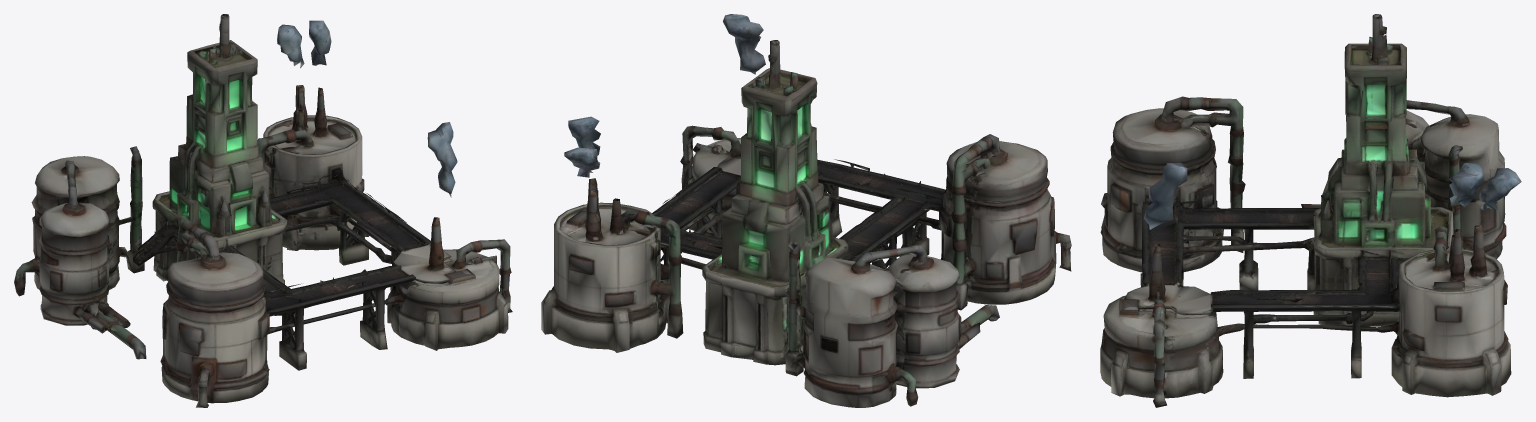
File: extractor.glb
3 renders of one model, left to right at view 1: azimuth 30°, elevation 25°; view 2: azimuth 150°, elevation 25°; view 3: azimuth 270°, elevation 25°, orthographic. The views are drawn at different scales.
Parts seen in each view (by area): view 1: Mesh1.0; view 2: Mesh1.0; view 3: Mesh1.0.
Part boxes in pixels (x1=…): Mesh1.0: x1=14, y1=14, x2=512, y2=407; Mesh1.0: x1=541, y1=14, x2=1071, y2=407; Mesh1.0: x1=1100, y1=14, x2=1521, y2=407.
Bounding box in the file's own units: 1.91 × 1.36 × 1.77.
1 material, 1 textured.
